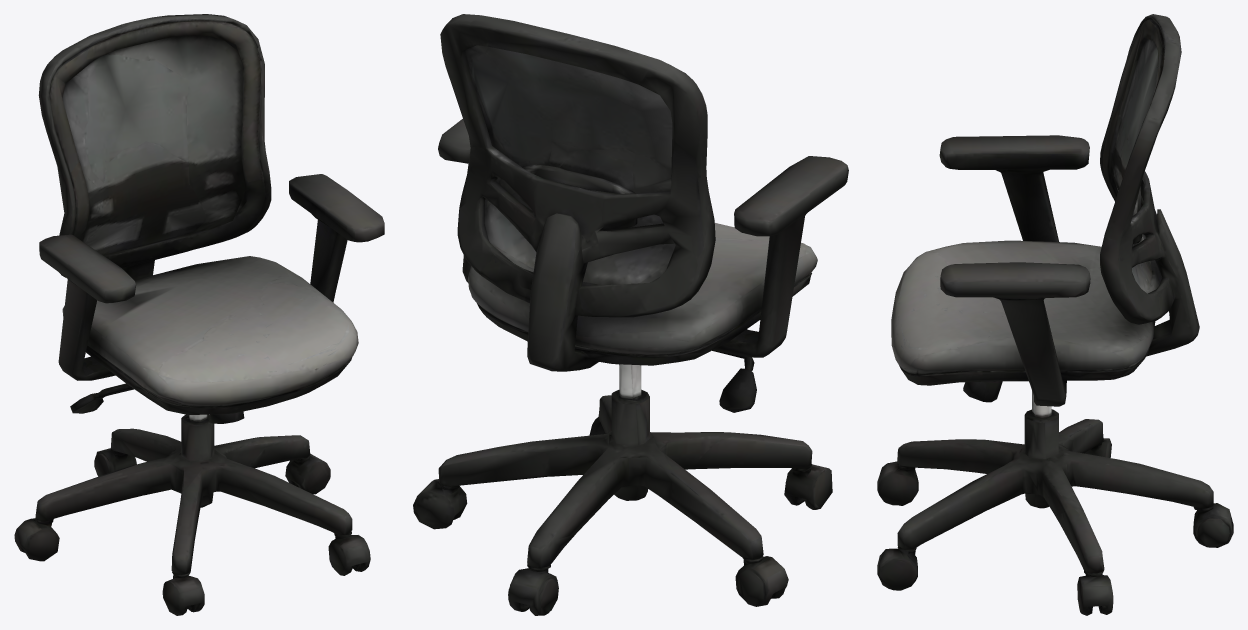
Rendered from chair-lite.glb.
The picture shows the model from 3 angles, left to right: view 1: azimuth 30°, elevation 25°; view 2: azimuth 150°, elevation 25°; view 3: azimuth 270°, elevation 25°; orthographic projection. The views are drawn at different scales.
Visible parts, largest first — view 1: node_0; view 2: node_0; view 3: node_0.
Part boxes in pixels (x1,y1,x2,y2): node_0: (14, 14, 384, 615); node_0: (413, 14, 848, 615); node_0: (877, 14, 1233, 615).
Bounding box in the file's own units: 0.6584 × 0.9732 × 0.6322.
Materials: 1 (1 with a texture image).
